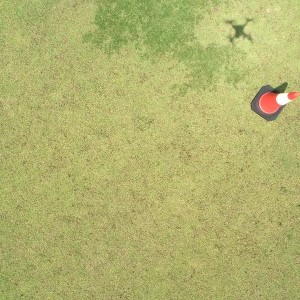traffic cone: (251, 85, 299, 121)
